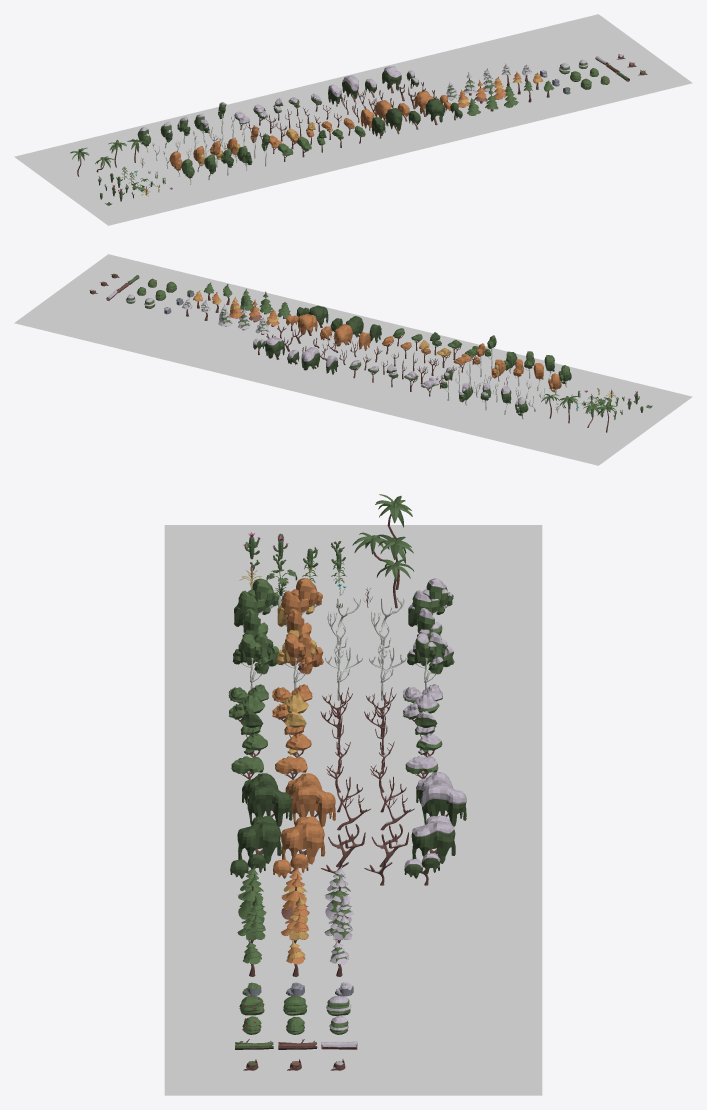
Rendered from forest-gym.glb.
3 views of the same model, one above another, from view 1: azimuth 30°, elevation 25°; view 2: azimuth 150°, elevation 25°; view 3: azimuth 270°, elevation 25° (orthographic). The views are drawn at different scales.
Visible parts, largest first — view 1: Plane, Willow_Snow_4, Willow_4; view 2: Plane, Willow_Snow_2, Willow_Snow_4, Willow_Autumn_4; view 3: Plane, Willow_Snow_2, Willow_Snow_4, Willow_4, Willow_Autumn_4, Willow_Autumn_2, Willow_2.
Part boxes in pixels (left/top/right/bottom): Plane: left=14, top=14, right=692, bottom=225; Willow_Snow_4: left=382, top=66, right=401, bottom=93; Willow_4: left=425, top=98, right=445, bottom=125; Plane: left=14, top=254, right=692, bottom=465; Willow_Snow_2: left=301, top=347, right=320, bottom=370; Willow_Snow_4: left=265, top=337, right=284, bottom=359; Willow_Autumn_4: left=298, top=314, right=317, bottom=335; Plane: left=164, top=525, right=542, bottom=1095; Willow_Snow_2: left=421, top=783, right=466, bottom=826; Willow_Snow_4: left=411, top=820, right=455, bottom=863; Willow_4: left=237, top=821, right=281, bottom=863; Willow_Autumn_4: left=281, top=822, right=325, bottom=864; Willow_Autumn_2: left=291, top=785, right=335, bottom=827; Willow_2: left=247, top=785, right=292, bottom=826.
Bounding box in the file's own units: 93 × 5.29 × 26.
